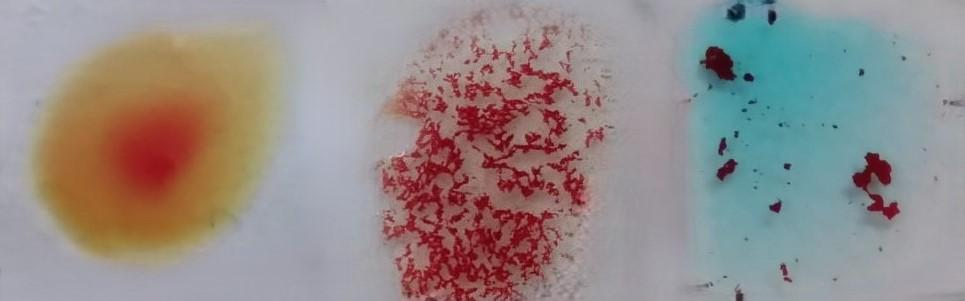A: (679, 4, 949, 301)
D: (376, 12, 615, 301)
